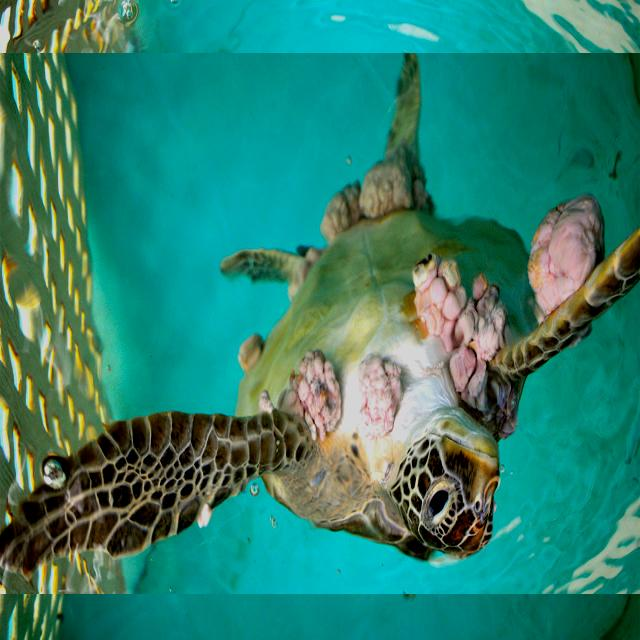Sea turtle: (0, 54, 640, 596)
